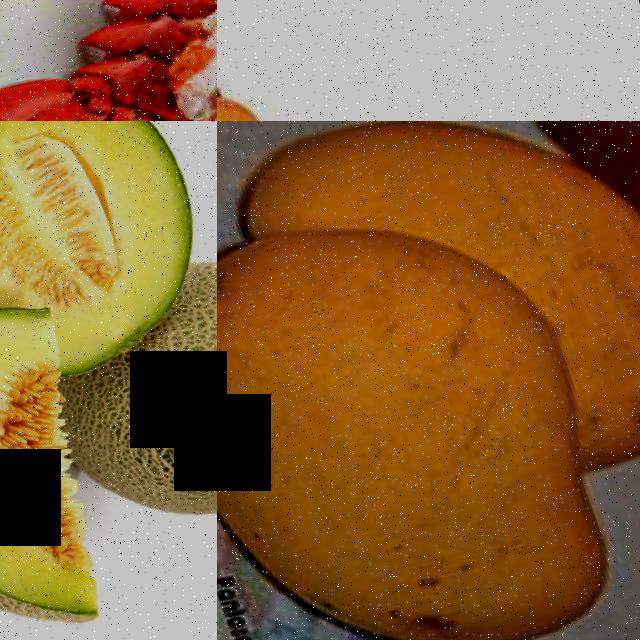lobster tails: (0, 0, 217, 121)
mango: (217, 174, 640, 640)
melon: (28, 281, 217, 547), (0, 296, 140, 640), (0, 121, 217, 339)
